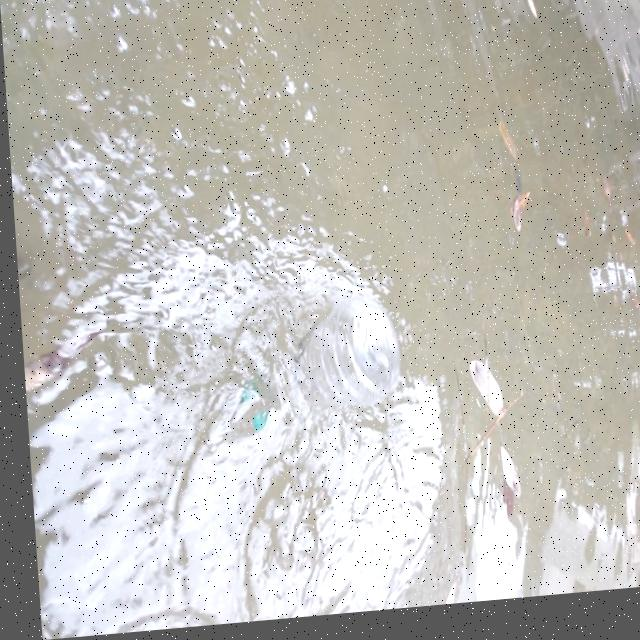leaf: (16, 300, 104, 429), (447, 352, 523, 429), (470, 450, 531, 527), (481, 119, 531, 165), (493, 191, 533, 243)
waterbottle: (211, 284, 420, 474)
